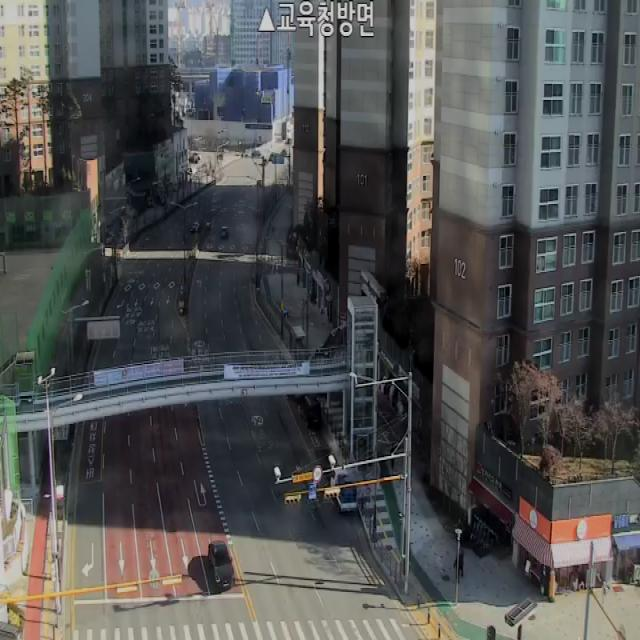Car: (209, 542, 235, 591), (297, 397, 321, 427), (286, 394, 306, 402), (221, 226, 228, 238), (192, 222, 198, 232)
Truck: (331, 469, 356, 514)
